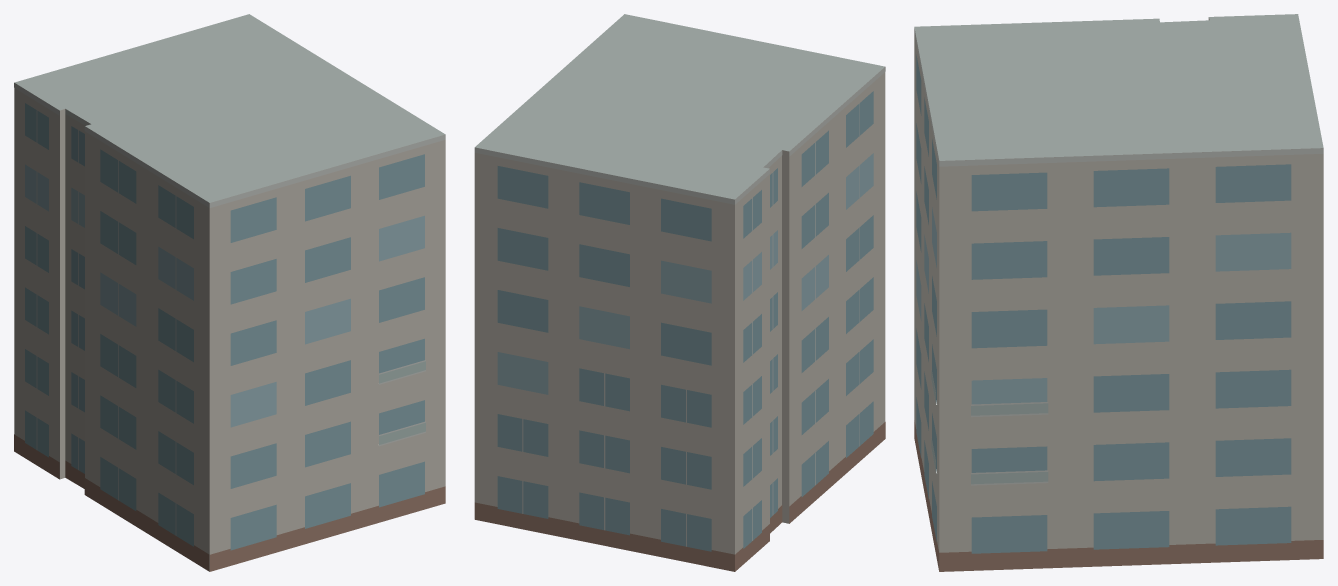
File: survey-upis-32964663.glb
The picture shows the model from 3 angles, left to right: view 1: azimuth 30°, elevation 25°; view 2: azimuth 150°, elevation 25°; view 3: azimuth 270°, elevation 25°; orthographic projection. The views are drawn at different scales.
Parts seen in each view (by area): view 1: survey-upis-32964663.tmp; view 2: survey-upis-32964663.tmp; view 3: survey-upis-32964663.tmp.
Boxes of the visible parts, x1=… form: survey-upis-32964663.tmp: x1=14, y1=14, x2=445, y2=571; survey-upis-32964663.tmp: x1=474, y1=14, x2=885, y2=571; survey-upis-32964663.tmp: x1=914, y1=14, x2=1323, y2=571.
Size of the model in its own units: 13.28 by 17.3 by 15.63.
